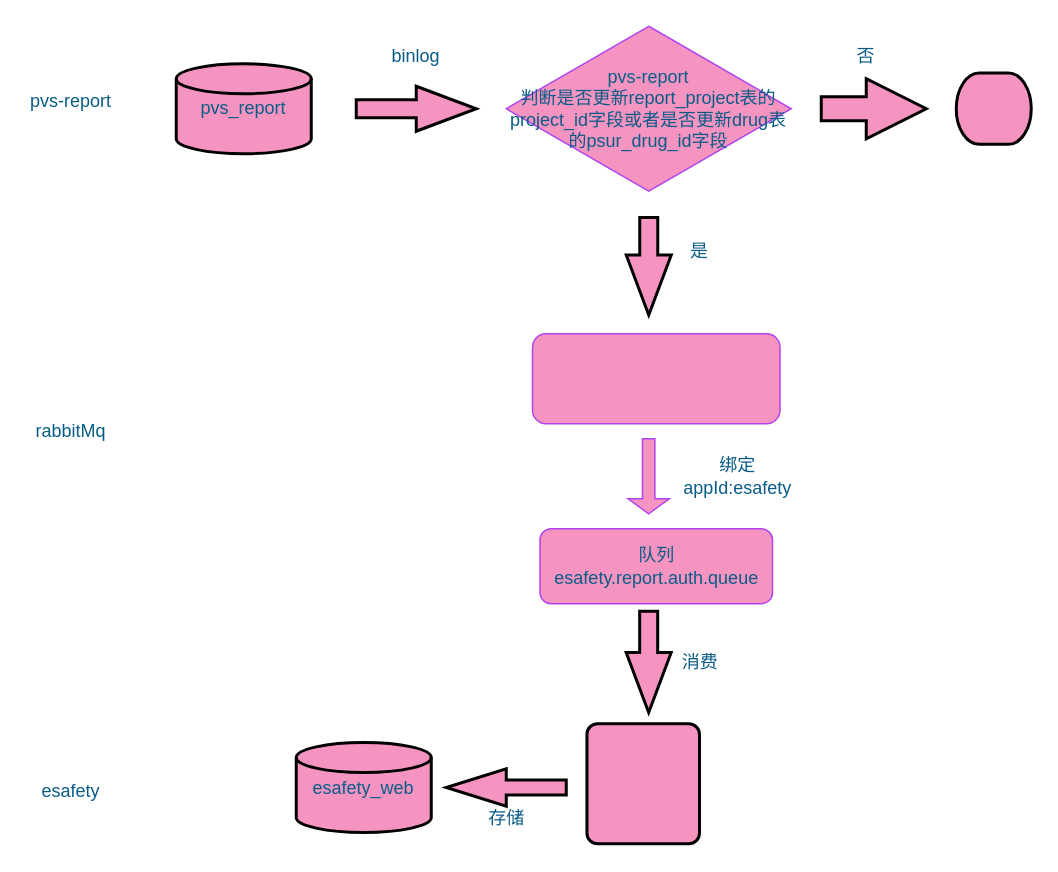
The diagram is 1058 pixels wide and 872 high, and some of its shapes have lost their labels. Each missing label, with the centre of its shape:
"esafety-web" belongs at (x=642, y=783).
"丢弃" belongs at (x=993, y=108).
"交换机pvs.report.auth.exchange" belongs at (x=655, y=378).
